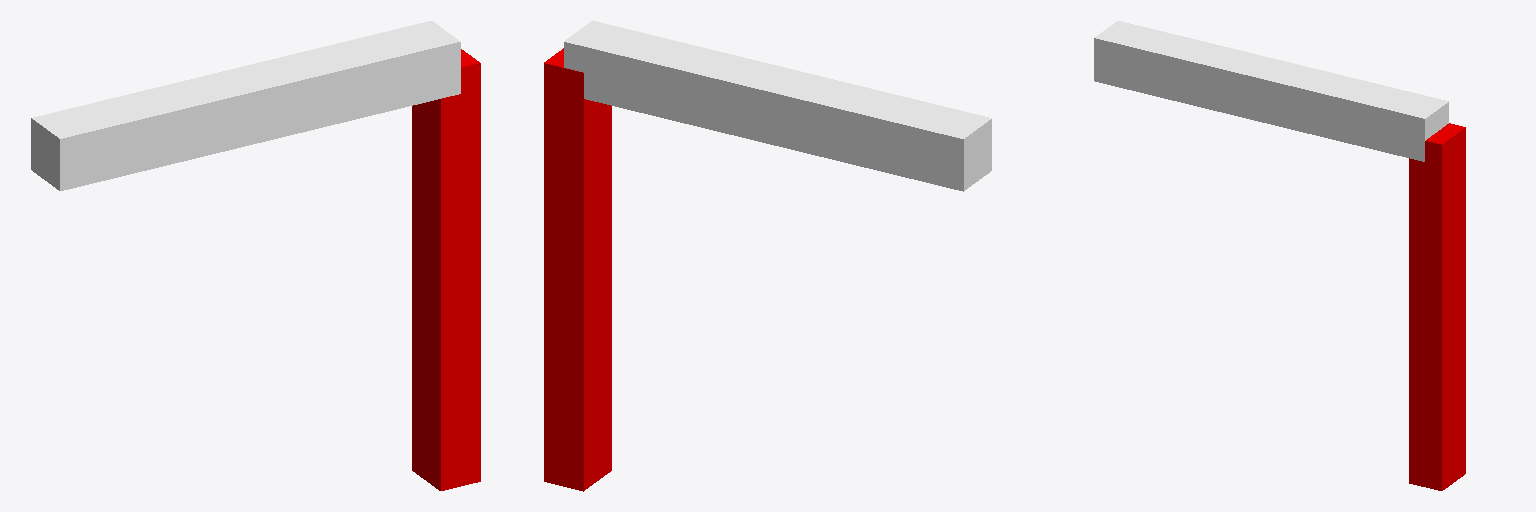
The robot description file, URDF, robot "L_shaped_tool":
<?xml version="1.0" ?>
<robot name="L_shaped_tool">

  <link name="base_link">
    <inertial>
      <origin xyz="-0.04 0 0" rpy="0 0 1.57"/>
      <mass value="0.01"/> <inertia ixx="0.0001" ixy="0" ixz="0" iyy="0.0001" iyz="0" izz="0.0001"/>
    </inertial>
    <visual>
      <origin xyz="-0.04 -0.0 0" rpy="0 0 1.57"/>
      <geometry><box size="0.01 0.08 0.01"/></geometry>
      <material name="white"><color rgba="1 1 1 1"/></material>
    </visual>
    <collision>
      <origin xyz="-0.04 0 0" rpy="0 0 1.57"/>
      <geometry><box size="0.01 0.08 0.01"/></geometry>
    </collision>
  </link>

  <joint name="load_cell_joint" type="fixed">
    <parent link="base_link"/>
    <child link="pin_link"/>
    <origin xyz="0 0 0" rpy="0 0 0"/>
  </joint>

  <link name="pin_link">
    <inertial>
      <origin xyz="0 0 -0.04" rpy="0 0 0"/>
      <mass value="0.01"/> <inertia ixx="0.0001" ixy="0" ixz="0" iyy="0.0001" iyz="0" izz="0.0001"/>
    </inertial>
    <visual>
      <origin xyz="0 0 -0.04" rpy="0 0 0"/>
      <geometry><box size="0.008 0.01 0.08"/></geometry>
      <material name="red"><color rgba="1 0 0 1"/></material>
    </visual>
    <collision>
      <origin xyz="0 0 -0.04" rpy="0 0 0"/>
      <geometry><box size="0.008 0.01 0.08"/></geometry>
    </collision>
  </link>

  <joint name="ankle_mount_joint" type="fixed">
    <parent link="pin_link"/>
    <child link="moving_link"/>
    <origin xyz="-0.0 0.01 -0.1" rpy="1.57 0 0"/>
  </joint>

  <link name="moving_link">
    <inertial>
      <mass value="0.276" />
      <origin xyz="0 0 0" rpy="0 0 0"/>
      <inertia ixx="0.0004" ixy="0.0" ixz="0.0" iyy="0.0004" iyz="0.0" izz="0.0004" />
    </inertial>
    <visual>
      <origin rpy="0 0 0" xyz="0 0 0" />
      <geometry><mesh filename="distal102.obj" scale="1 1 1" /></geometry>
      <material name="grey"><color rgba="0.7 0.7 0.7 1"/></material>
    </visual>
    <collision>
      <origin rpy="0 0 0" xyz="0 0 0" />
      <geometry><mesh filename="distal1022_vhacd.obj" scale="1 1 1" /></geometry>
    </collision>
  </link>
</robot>

--- Facts derived from the render (not from the file) ---
3 views of the same robot in one strip: view 1: azimuth 30°, elevation 25°; view 2: azimuth 150°, elevation 25°; view 3: azimuth 330°, elevation 25° (orthographic).
Model L_shaped_tool with 3 links and 2 joints (2 fixed), rooted at base_link, posed all joints at 0.
Visible links, largest first — view 1: base_link, pin_link; view 2: base_link, pin_link; view 3: base_link, pin_link.
Boxes of the visible links, bbox=[...] form: base_link: bbox=[31, 21, 460, 190]; pin_link: bbox=[412, 49, 480, 490]; base_link: bbox=[564, 20, 991, 191]; pin_link: bbox=[544, 48, 611, 491]; base_link: bbox=[1094, 21, 1448, 161]; pin_link: bbox=[1409, 123, 1465, 490].
Size in the robot's own frame: 0.084 by 0.0101 by 0.085 metres.
Meshes: 1 distinct files referenced, 0 mesh visuals loaded (none loaded); not drawn: 1 (reference not matched to a file when rendering).
